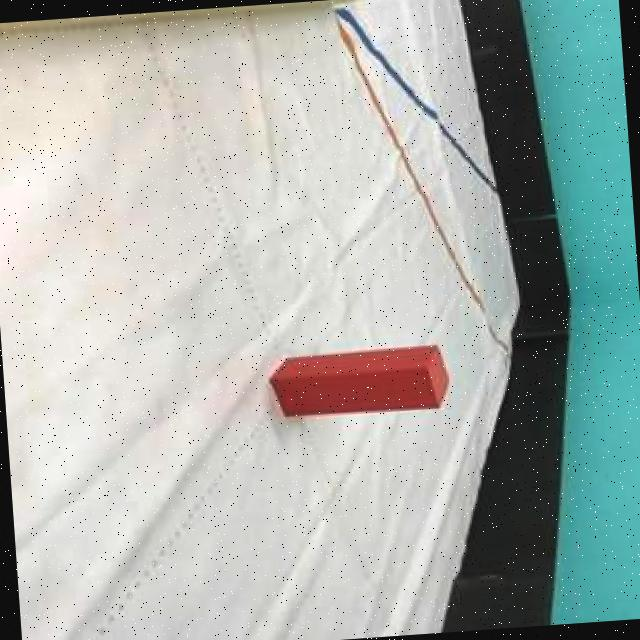redbox: (267, 341, 454, 420)
